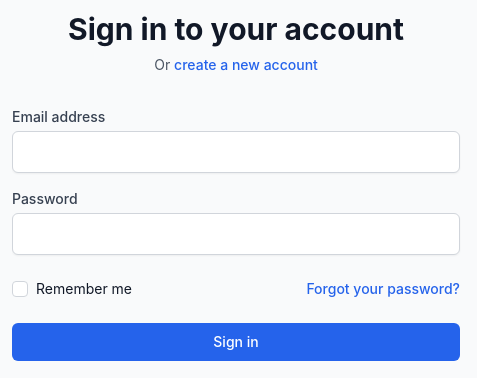
LoginForm › shows loading state during submission
The width and height of the screenshot is (477, 378).
Type "test@example.com" into the field labelled "Email address" at {"x": 236, "y": 152}, box [12,131,460,173]
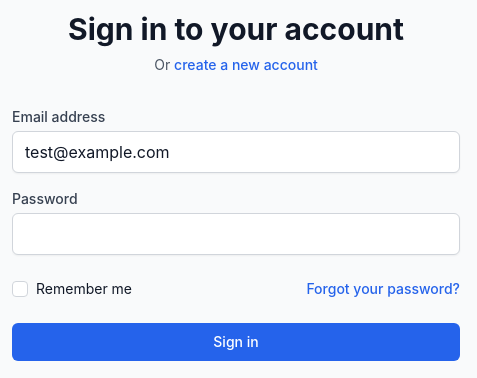
Type "password123" into the password field labelled "Password" at {"x": 236, "y": 234}, box [12,213,460,255]
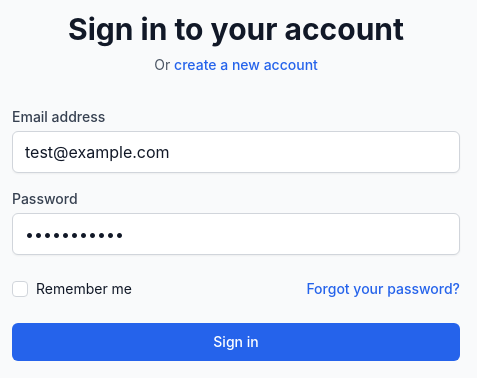
Click the button "Sign in" at {"x": 236, "y": 342}, box [12,323,460,361]
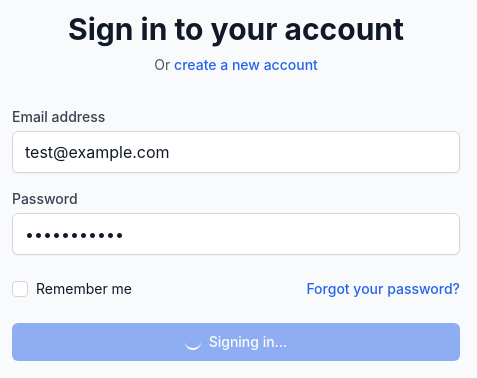
Result: the text "Signing in..." is shown at [185,332,287,352]
Result: the button named "Sign in" is disabled at [12,323,460,361]
